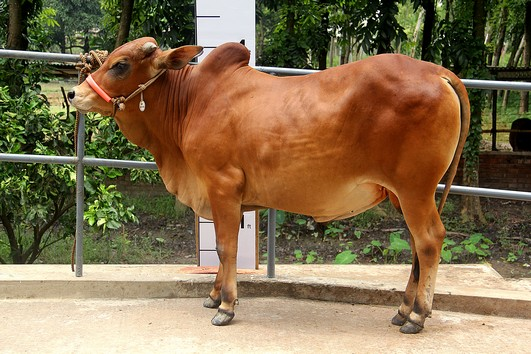cow: (65, 34, 473, 336)
